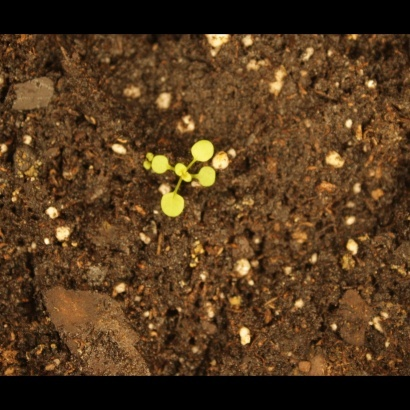leaf: (195, 166, 224, 194), (161, 193, 187, 222), (190, 138, 219, 163), (172, 161, 198, 184), (128, 162, 151, 185), (131, 139, 154, 162), (152, 156, 175, 179)
